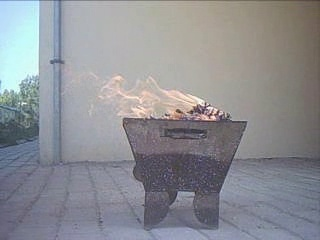fire: (77, 68, 226, 120)
